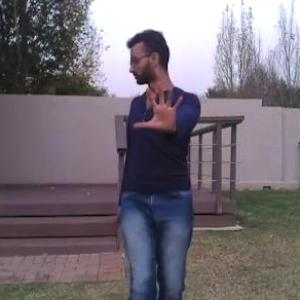follow_hand: (131, 78, 185, 134)
